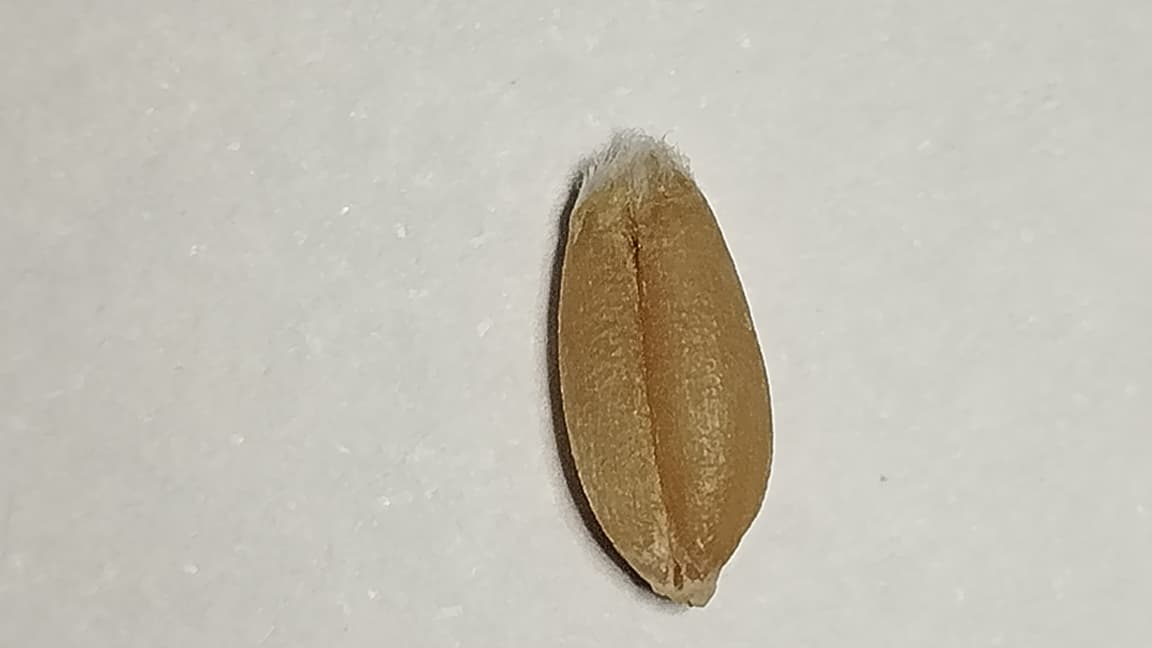healthy: (544, 153, 773, 604)
